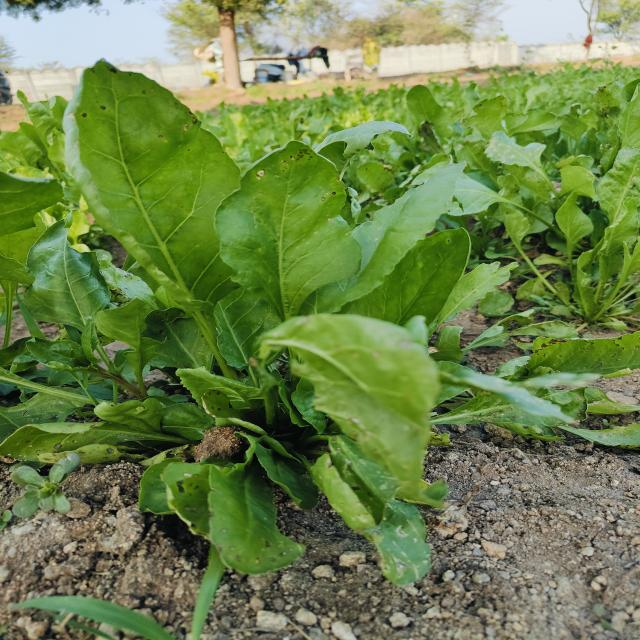leaves: (52, 50, 262, 380), (252, 309, 465, 532), (210, 138, 361, 357), (276, 156, 458, 323), (323, 225, 489, 368), (135, 458, 286, 589), (1, 414, 193, 479)
